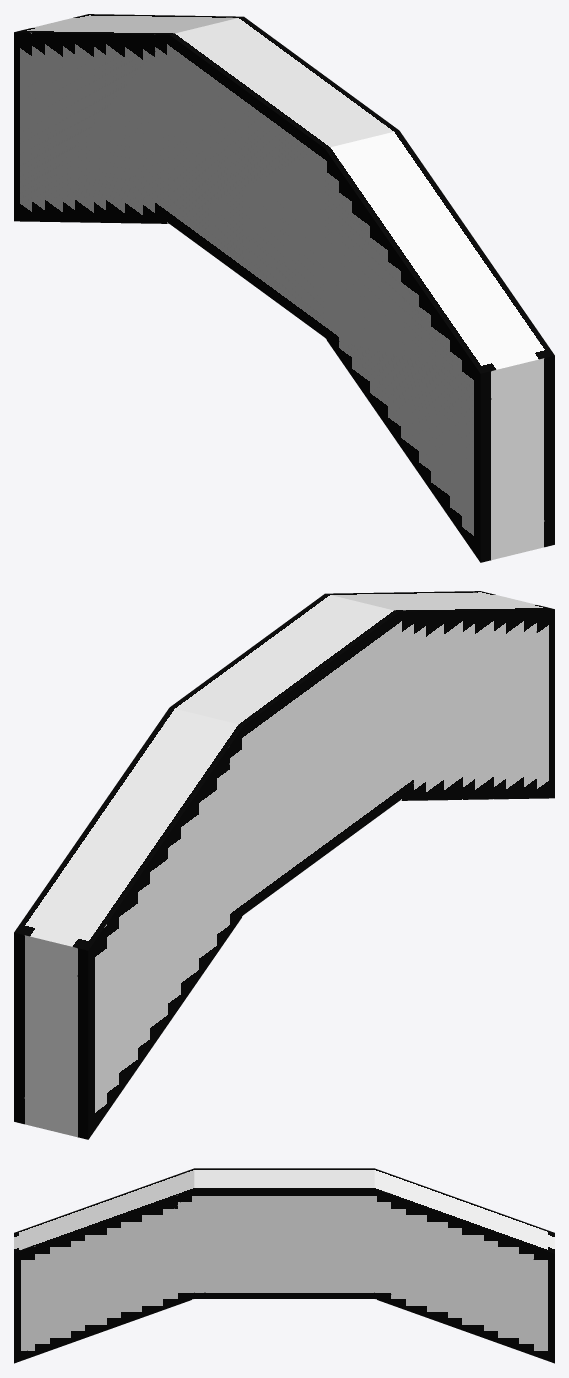
The model's file is side.gltf.
3 renders of one model, top to bottom at view 1: azimuth 30°, elevation 25°; view 2: azimuth 150°, elevation 25°; view 3: azimuth 270°, elevation 25°, orthographic. The views are drawn at different scales.
Visible parts, largest first — view 1: cuboid; view 2: cuboid; view 3: cuboid.
Boxes of the visible parts, x1,y1,x2,y2 form: cuboid: [14, 14, 554, 562]; cuboid: [14, 591, 554, 1139]; cuboid: [14, 1168, 554, 1363].
Size of the model in its own units: 0.4375 by 1.69 by 4.75.
1 material, 1 textured.
